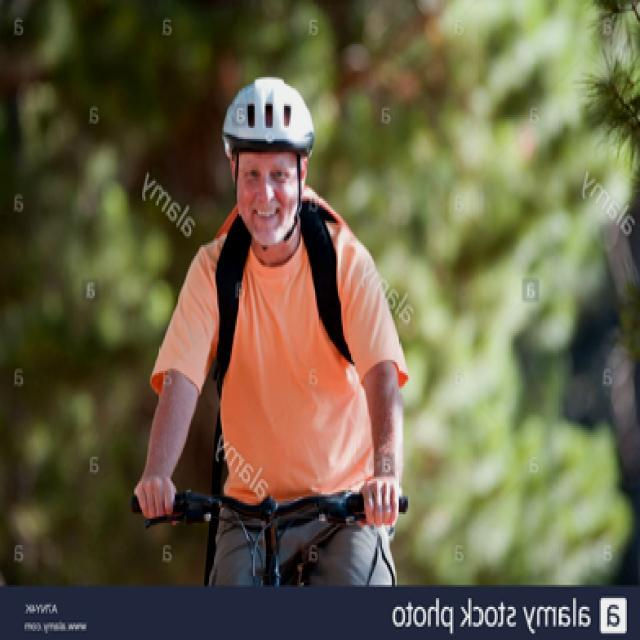Helmet: (214, 69, 325, 245)
